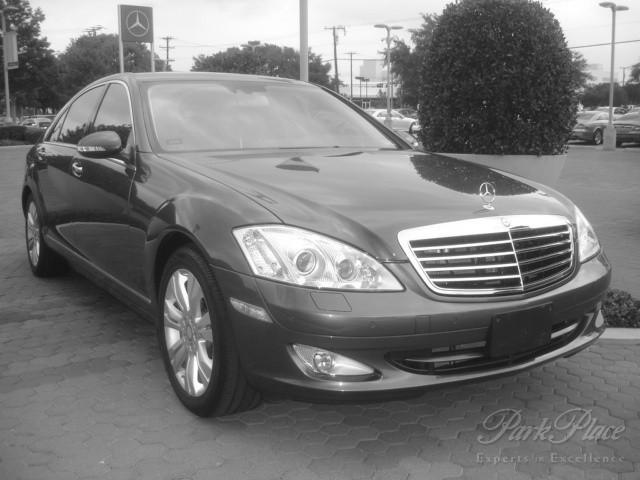car: (21, 71, 614, 419)
